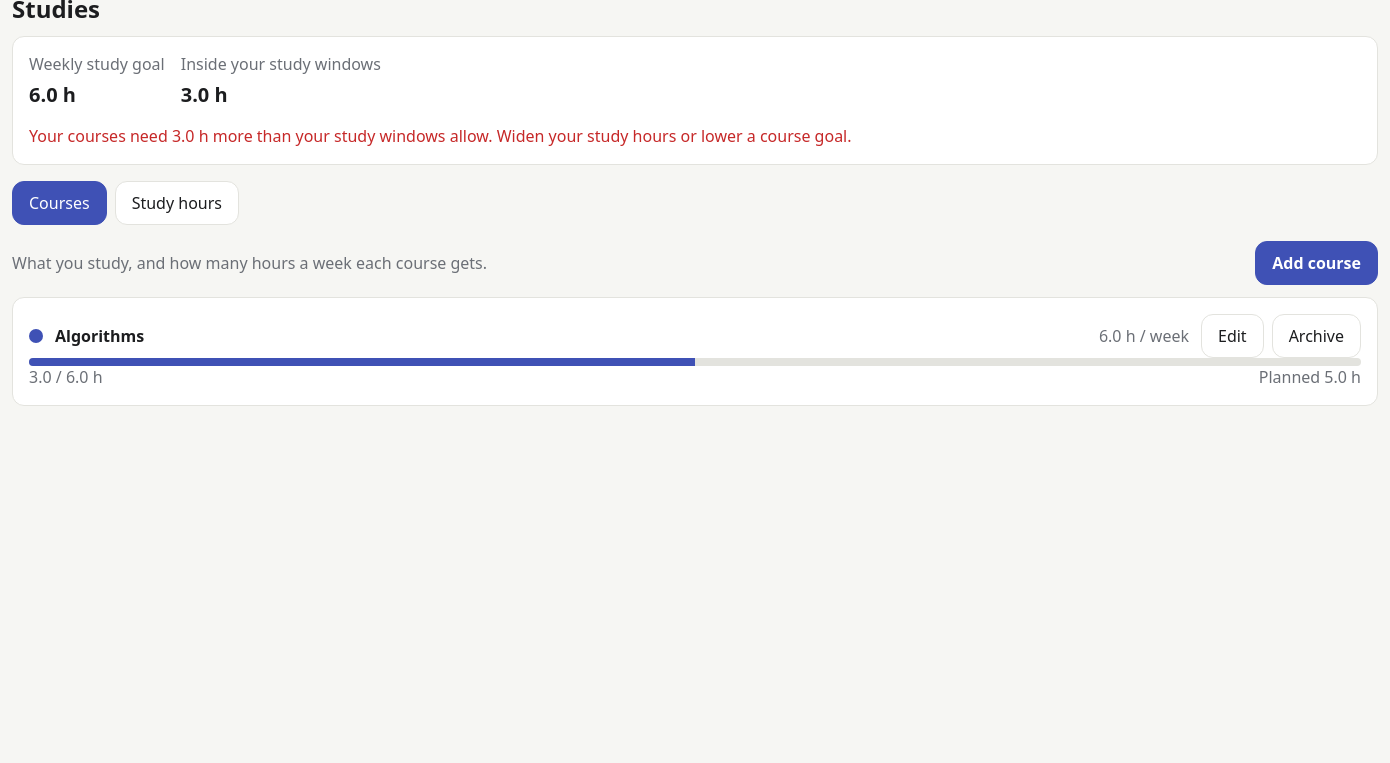
Test: study hours tab shows server field errors next to their fields
The image size is (1390, 763).
Click the tab "Study hours": (177, 203) left=115, top=181, right=239, bottom=225
(page scrolled)
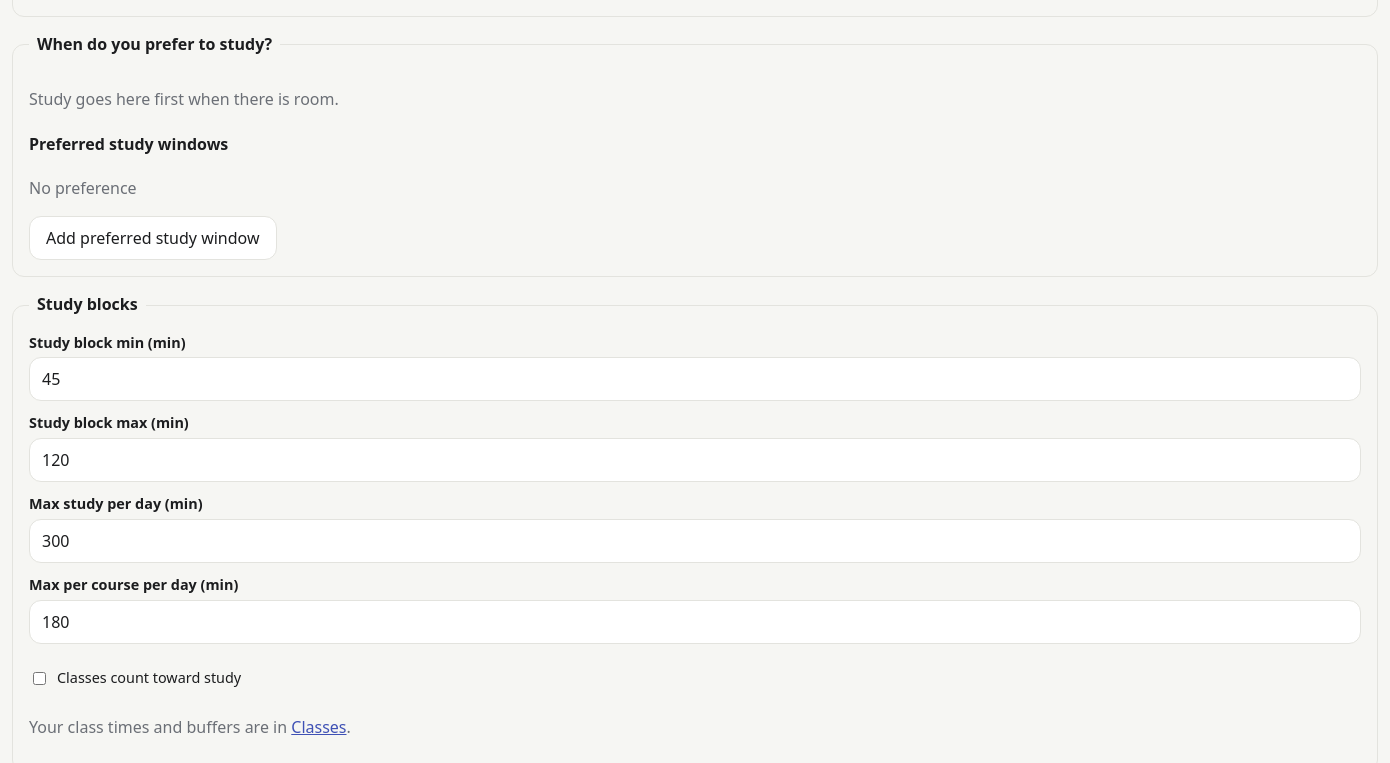
Replace the text in the number field labelled "Study block min (min)" with "50": (695, 380) left=29, top=358, right=1361, bottom=402
(page scrolled)
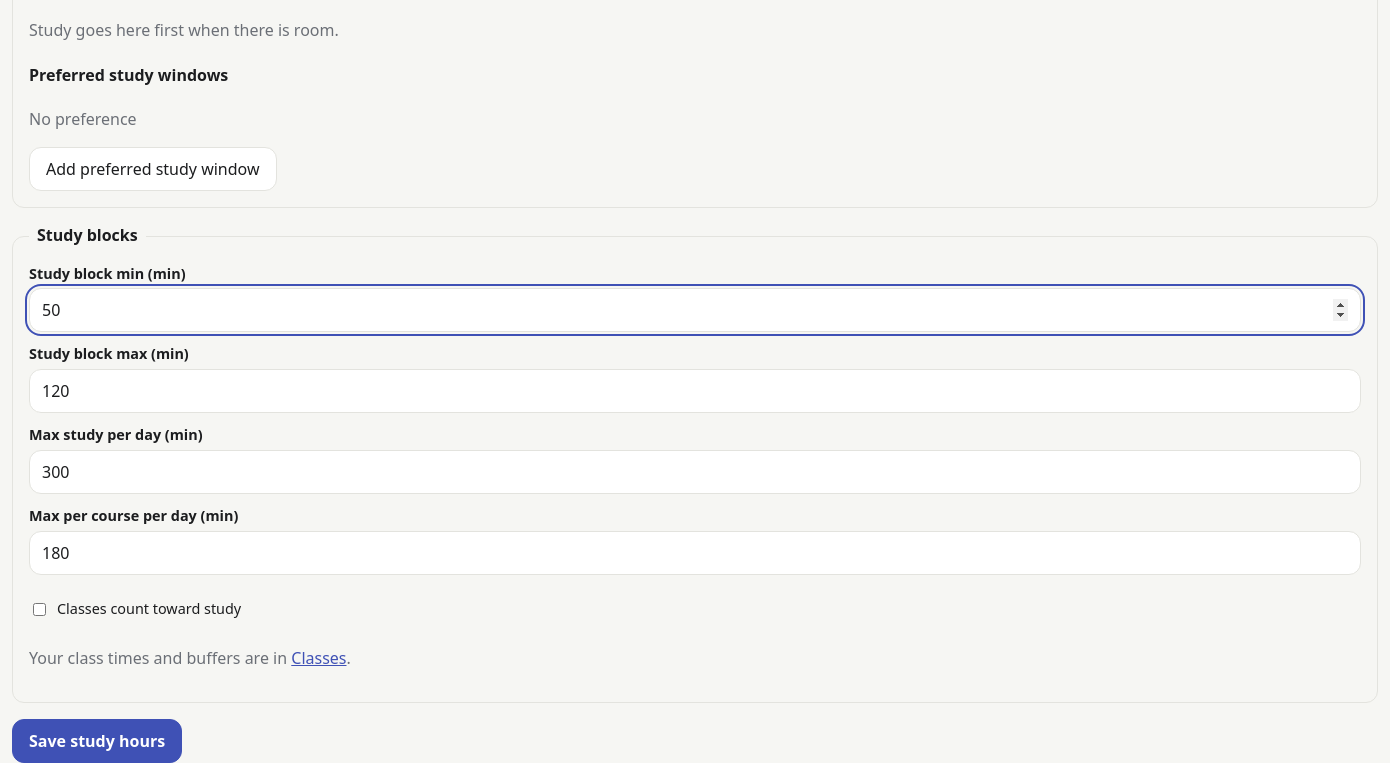
Click the button "Save study hours": (97, 741) left=12, top=719, right=182, bottom=762
(page scrolled)
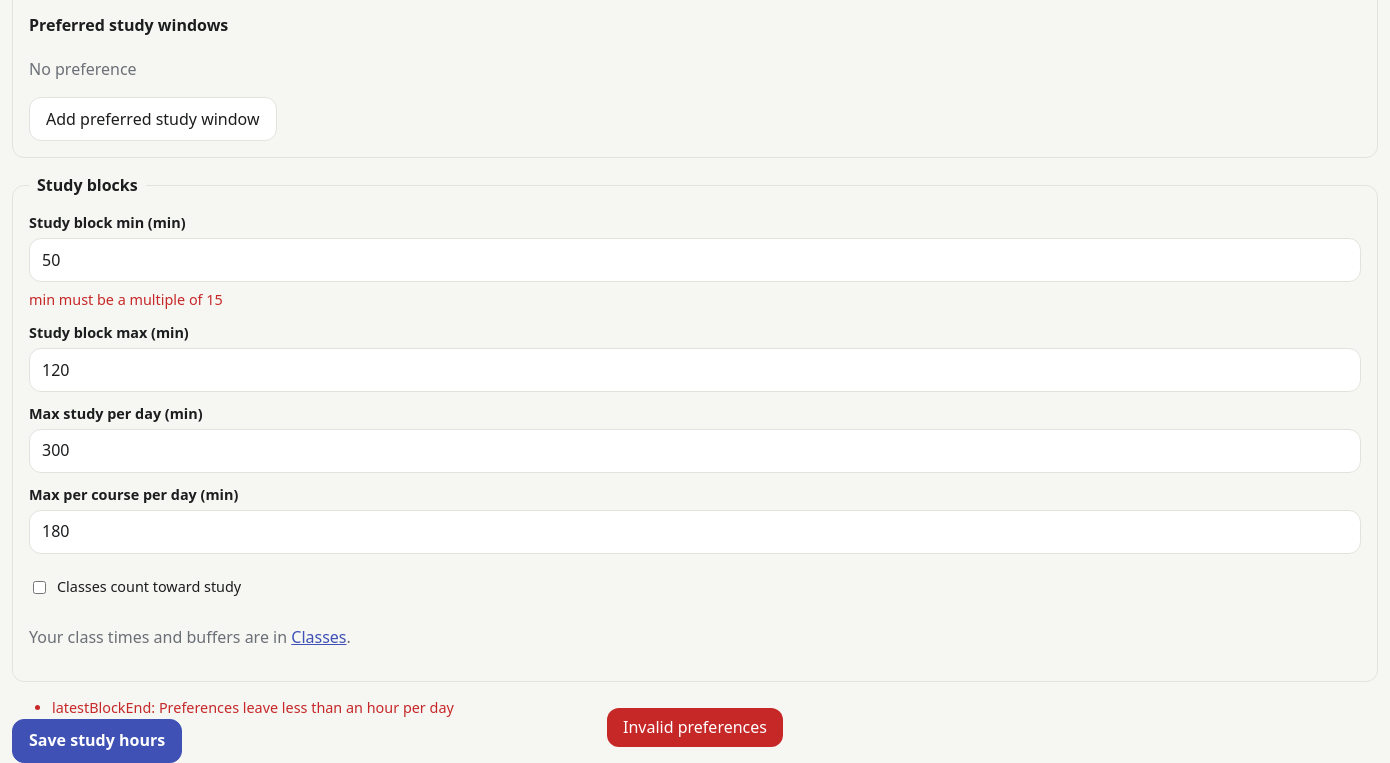
Check: the text "min must be a multiple of 15" is shown, box left=29, top=290, right=223, bottom=309
Check: the message named "Other problems" reads "latestBlockEnd: Preferences leave less than an hour per day", box left=52, top=698, right=454, bottom=717
